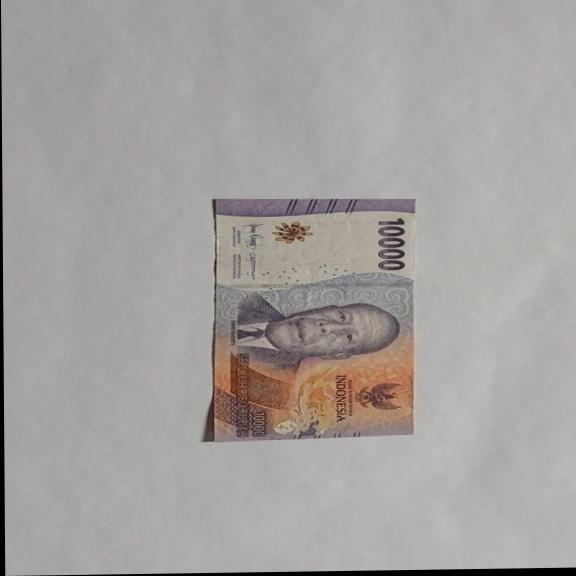Kertas: (206, 195, 419, 442), (374, 217, 408, 271)
